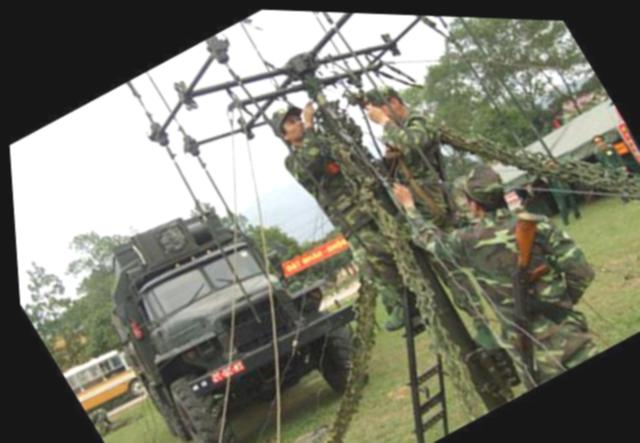License_Plate: (206, 355, 245, 389)
